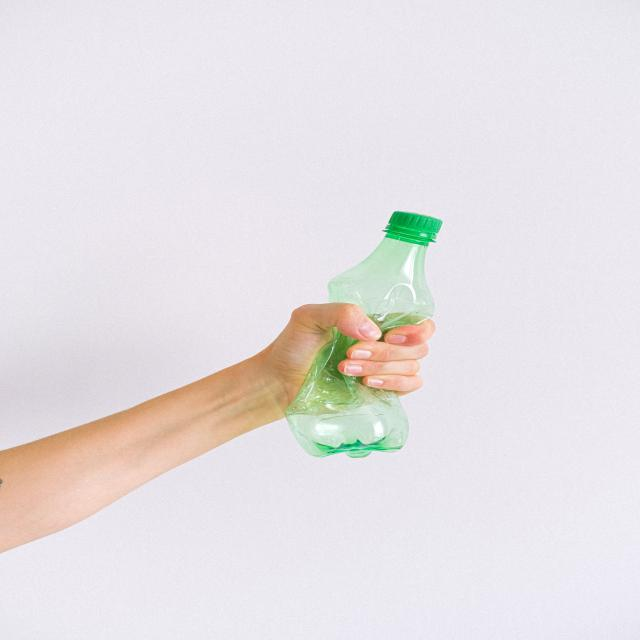plastic: (312, 395, 393, 453)
